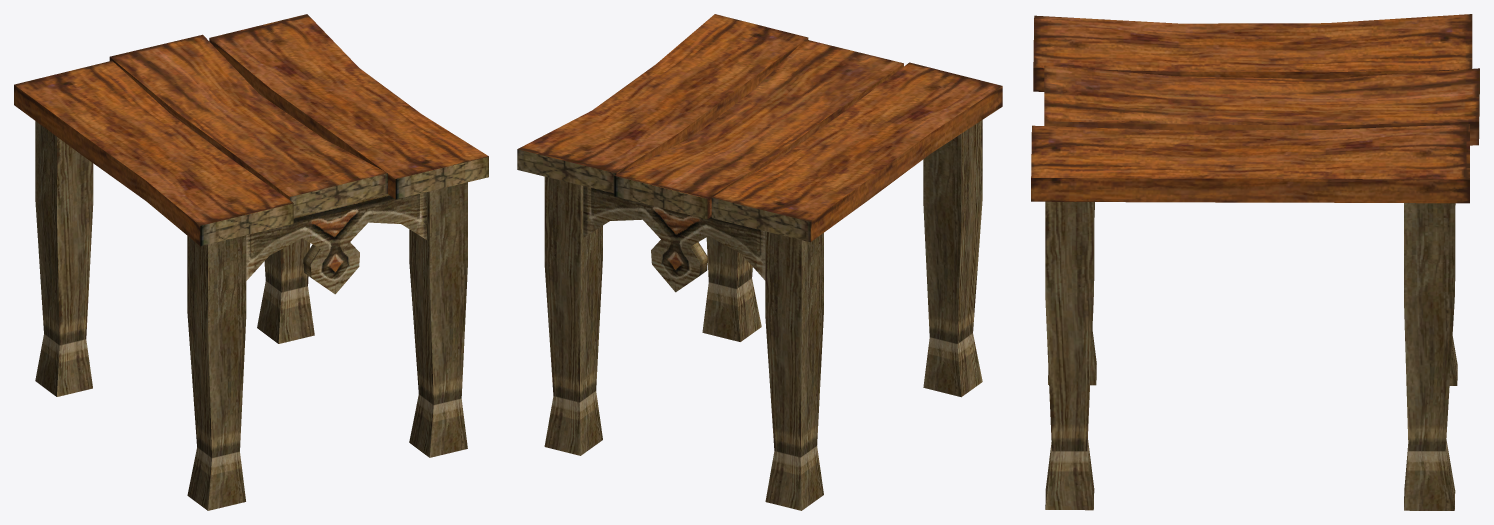
The model's file is LVL_RIV_INST_SMALL_TABLE.fbx.
3 renders of one model, left to right at view 1: azimuth 30°, elevation 25°; view 2: azimuth 150°, elevation 25°; view 3: azimuth 270°, elevation 25°, orthographic. The views are drawn at different scales.
Parts seen in each view (by area): view 1: LVL_RIV_INST_SMALL_TABLE; view 2: LVL_RIV_INST_SMALL_TABLE; view 3: LVL_RIV_INST_SMALL_TABLE.
Part boxes in pixels (x1=…): LVL_RIV_INST_SMALL_TABLE: x1=14, y1=14, x2=488, y2=510; LVL_RIV_INST_SMALL_TABLE: x1=517, y1=14, x2=1002, y2=510; LVL_RIV_INST_SMALL_TABLE: x1=1031, y1=14, x2=1479, y2=510.
Bounding box in the file's own units: 8087 × 7786 × 9187.
Materials: 5 (5 with a texture image).
